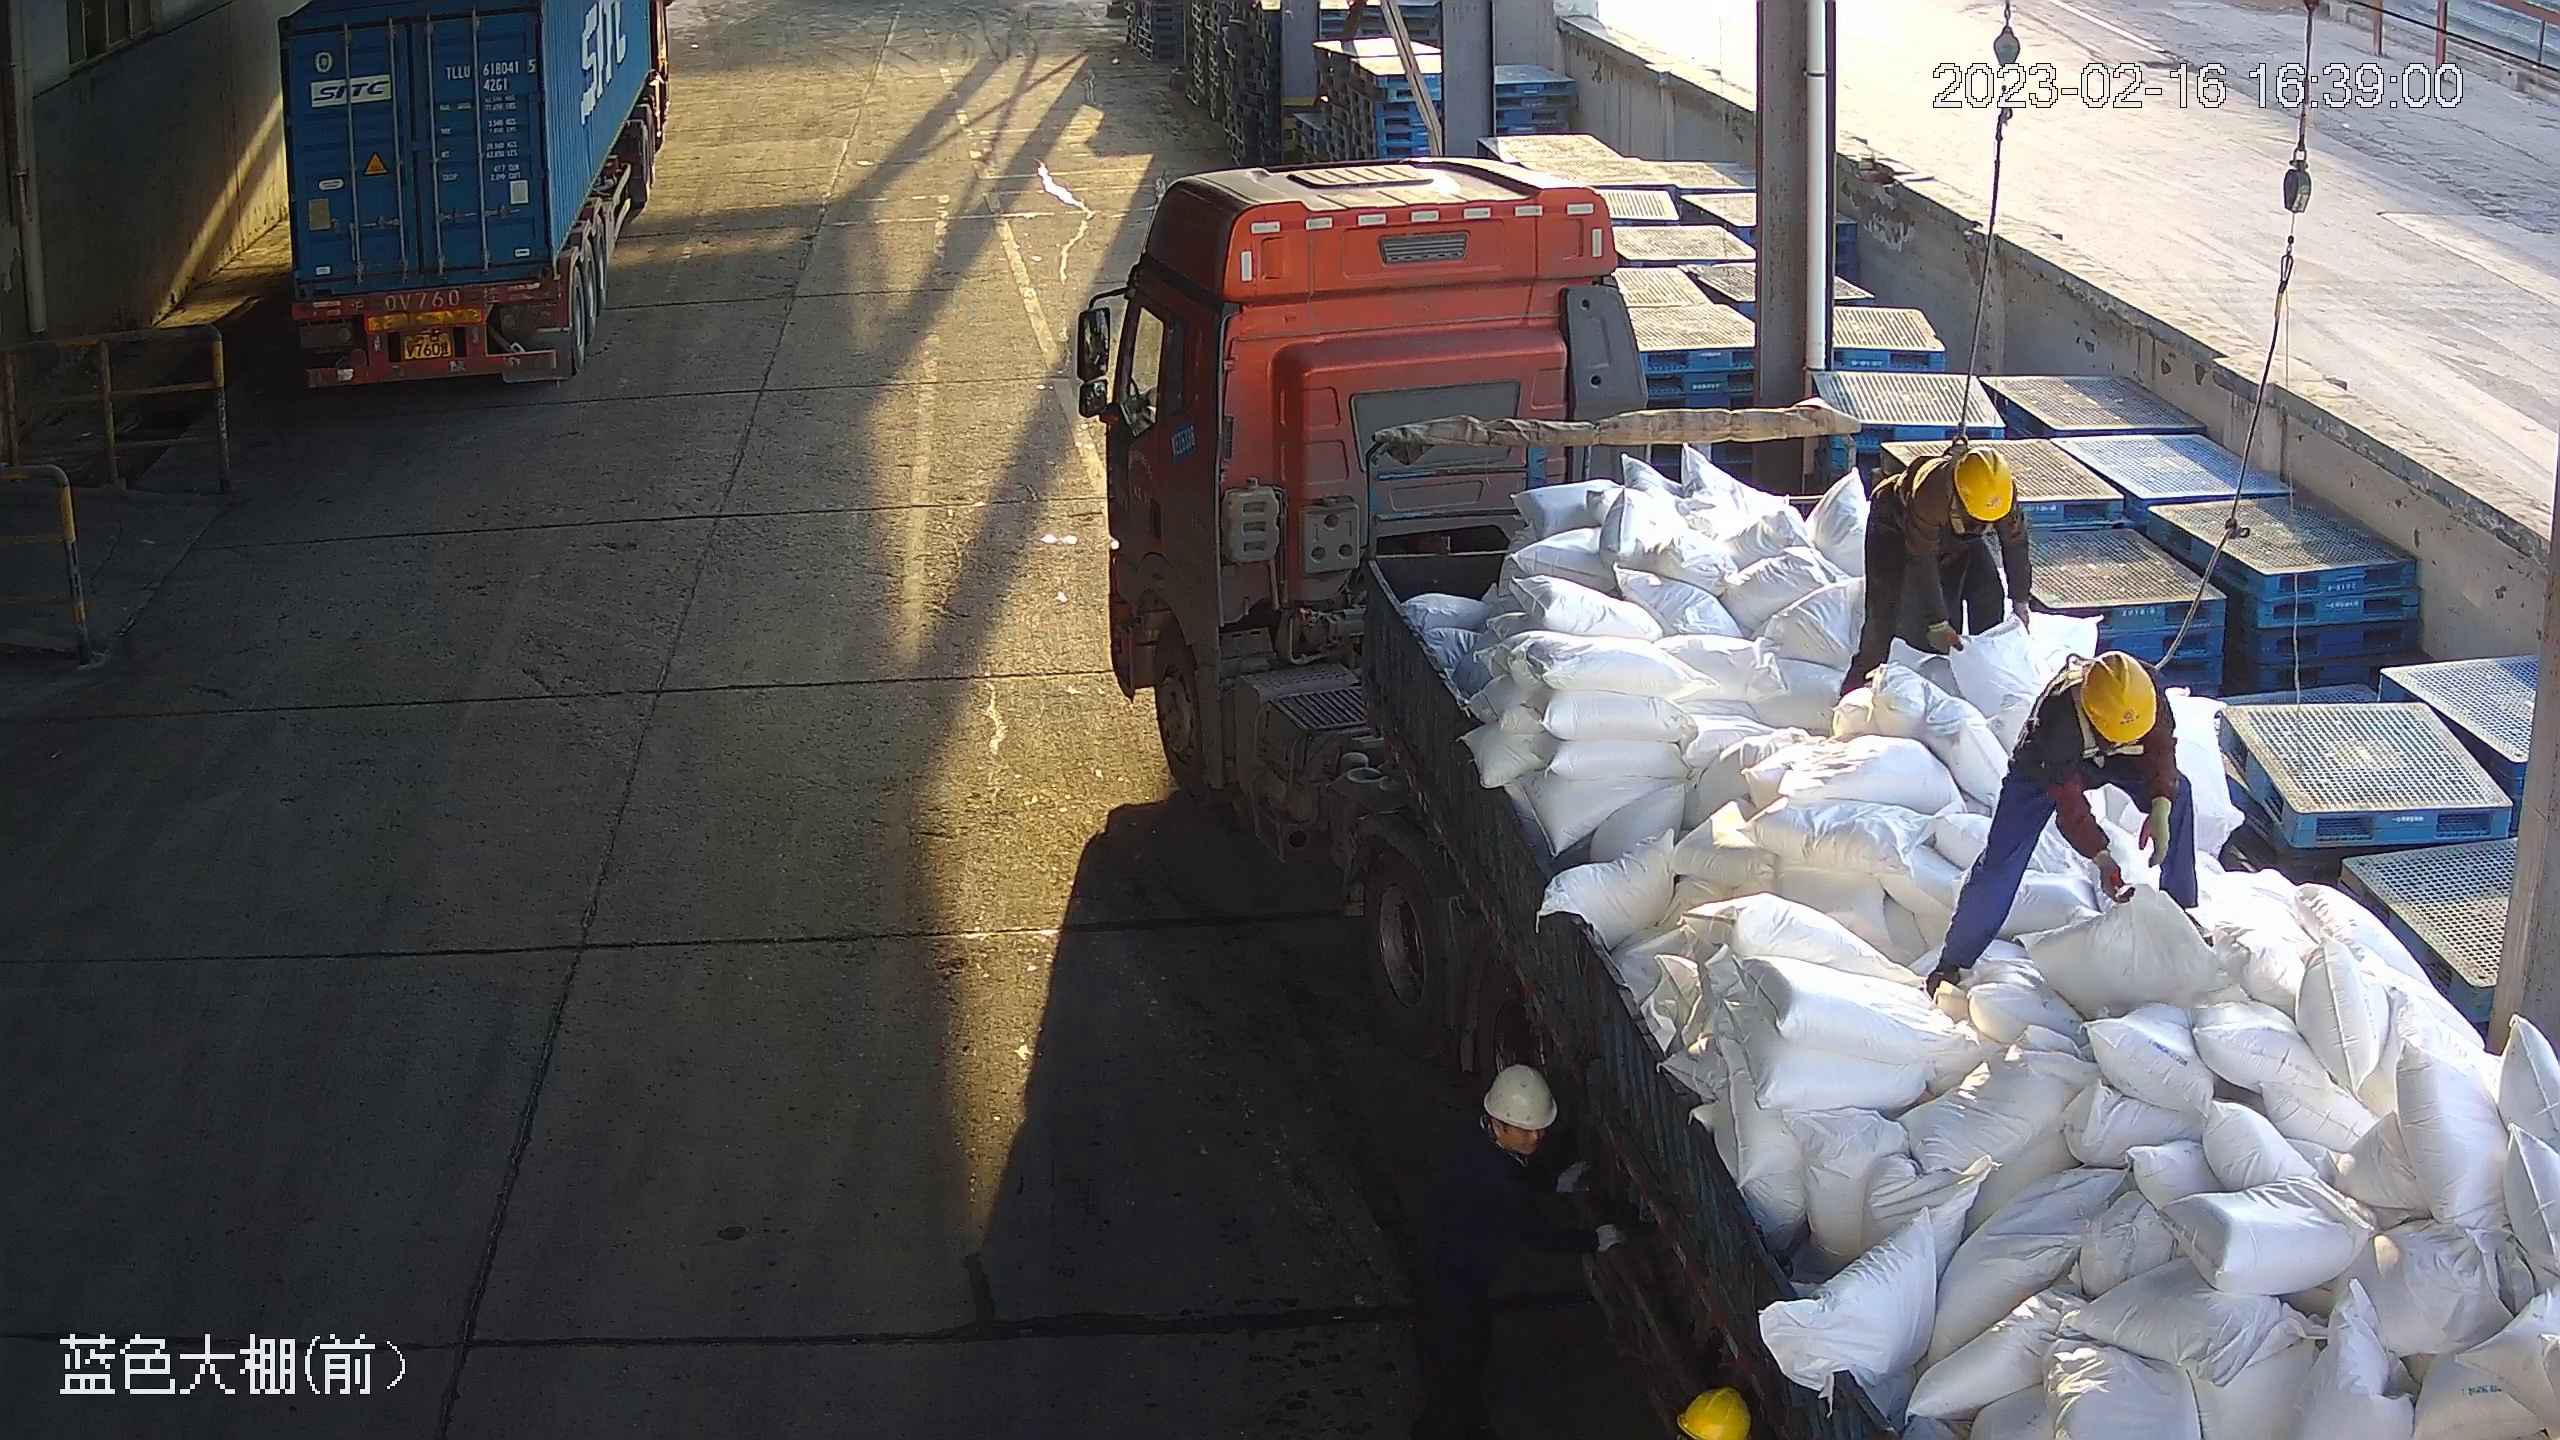belt: (2035, 653, 2088, 753), (1911, 418, 1977, 490)
head: (2048, 655, 2170, 764), (1921, 444, 2030, 541)
helmet: (2077, 643, 2155, 744), (1951, 446, 2016, 523)
people: (1913, 646, 2218, 999), (1839, 446, 2035, 713)
truck: (1083, 151, 2560, 1440), (244, 4, 679, 393)
